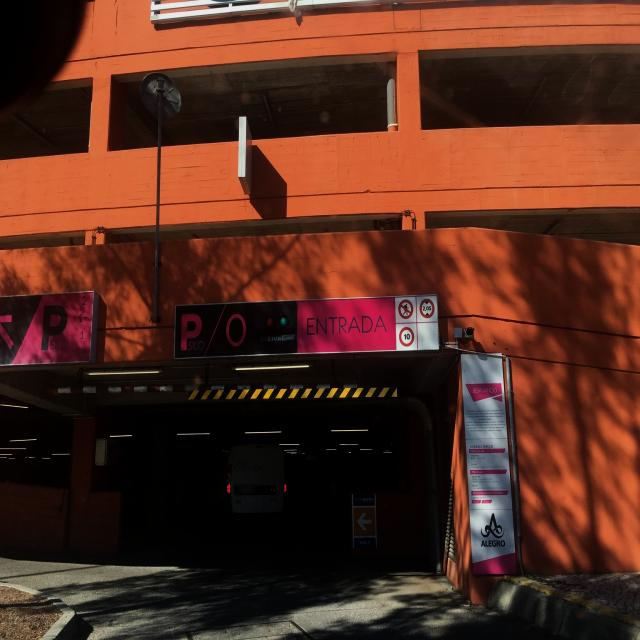car: (223, 442, 287, 522)
